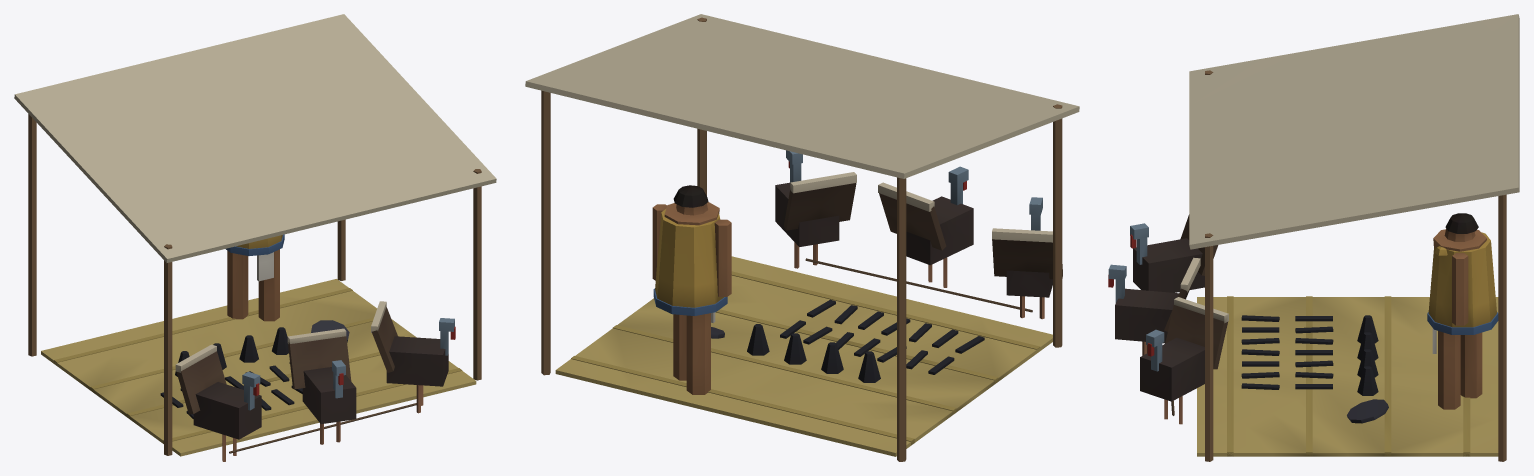
Rendered from stall.glb.
3 views of the same model, side by side, from view 1: azimuth 30°, elevation 25°; view 2: azimuth 150°, elevation 25°; view 3: azimuth 270°, elevation 25° (orthographic). The views are drawn at different scales.
Parts seen in each view (by area): view 1: base; view 2: base; view 3: base.
Boxes of the visible parts, box(x1,y1,x2,y2) form: base: box(14, 14, 496, 461); base: box(525, 14, 1079, 461); base: box(1108, 14, 1519, 461).
Bounding box in the file's own units: 3.06 × 2.29 × 3.07.
